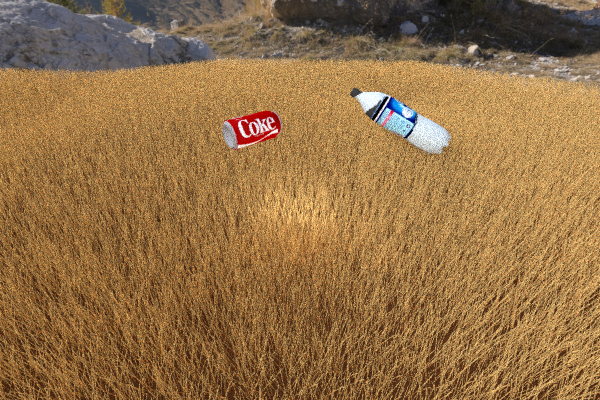Plastic Bottle: (350, 87, 450, 154), (222, 110, 281, 150)
